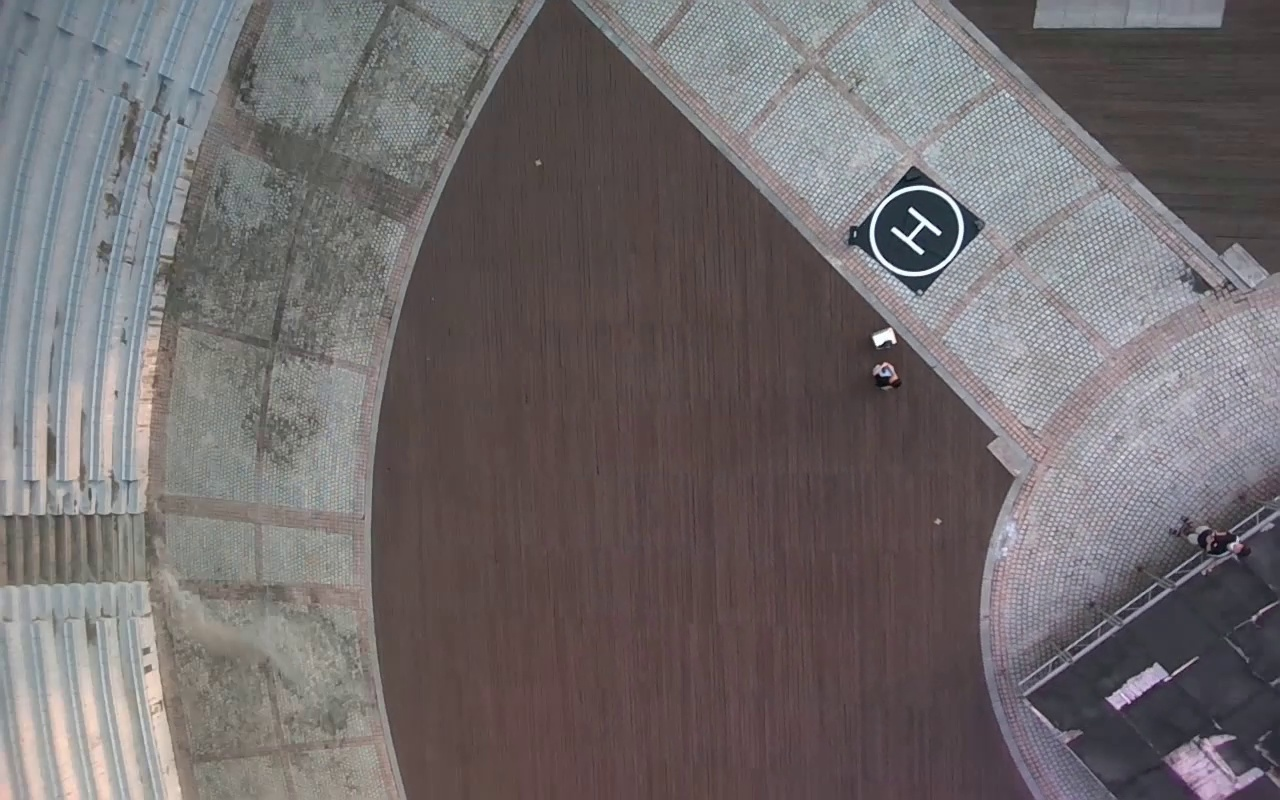H: (889, 204, 943, 256)
heliport: (868, 188, 964, 277)
